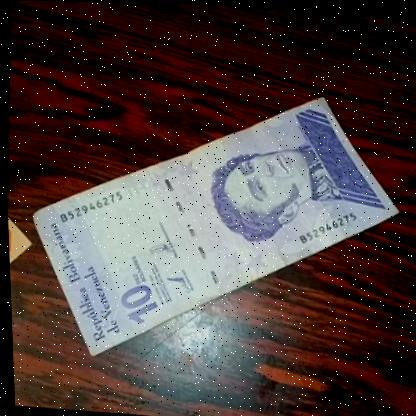ten-front-vef: (15, 72, 414, 380)
